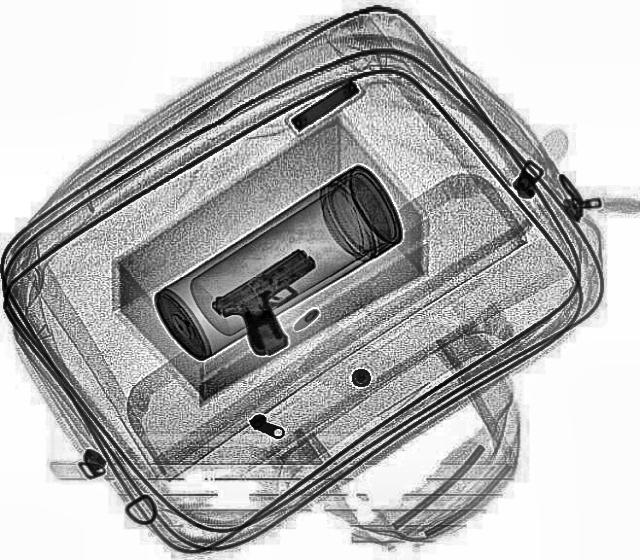Gun: (204, 244, 356, 361)
